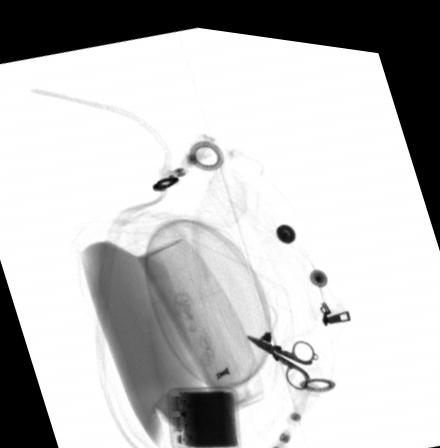Powerbank: (165, 383, 237, 447)
Scissors: (245, 327, 315, 381)
